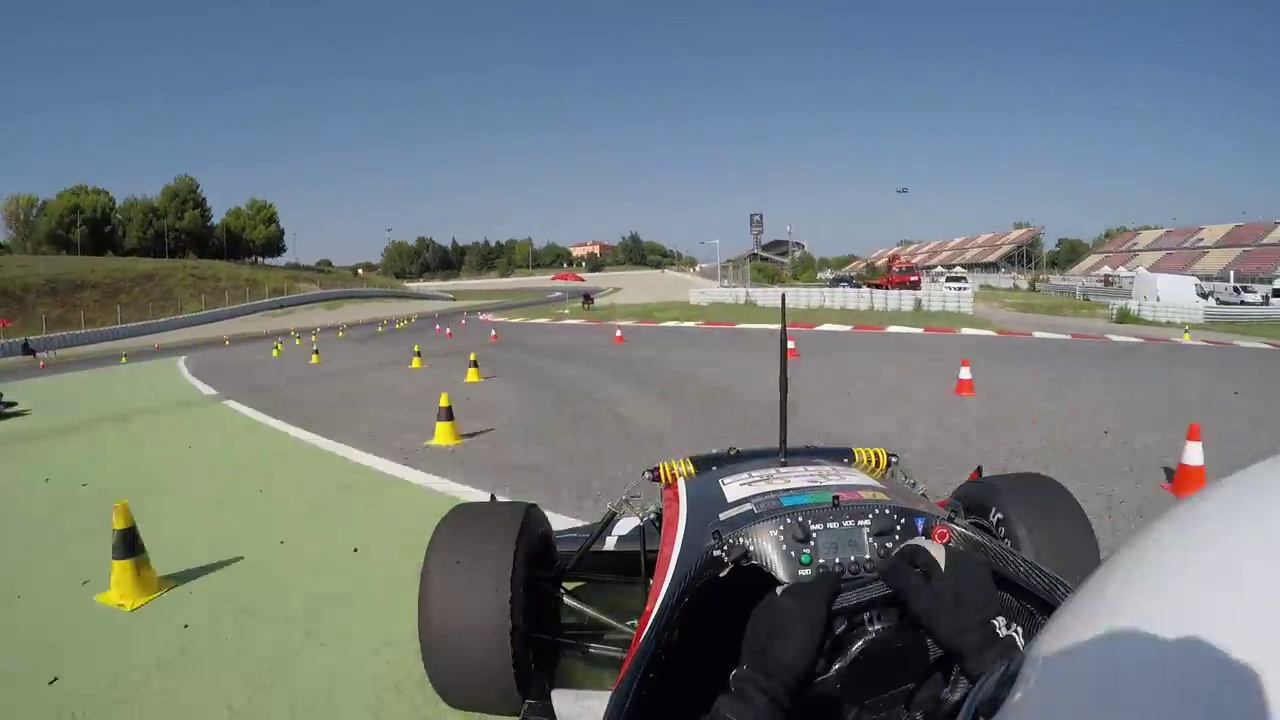Cone: (97, 499, 171, 606), (1162, 422, 1217, 498), (429, 389, 462, 445), (950, 356, 981, 397), (465, 348, 489, 386), (404, 344, 429, 367)
